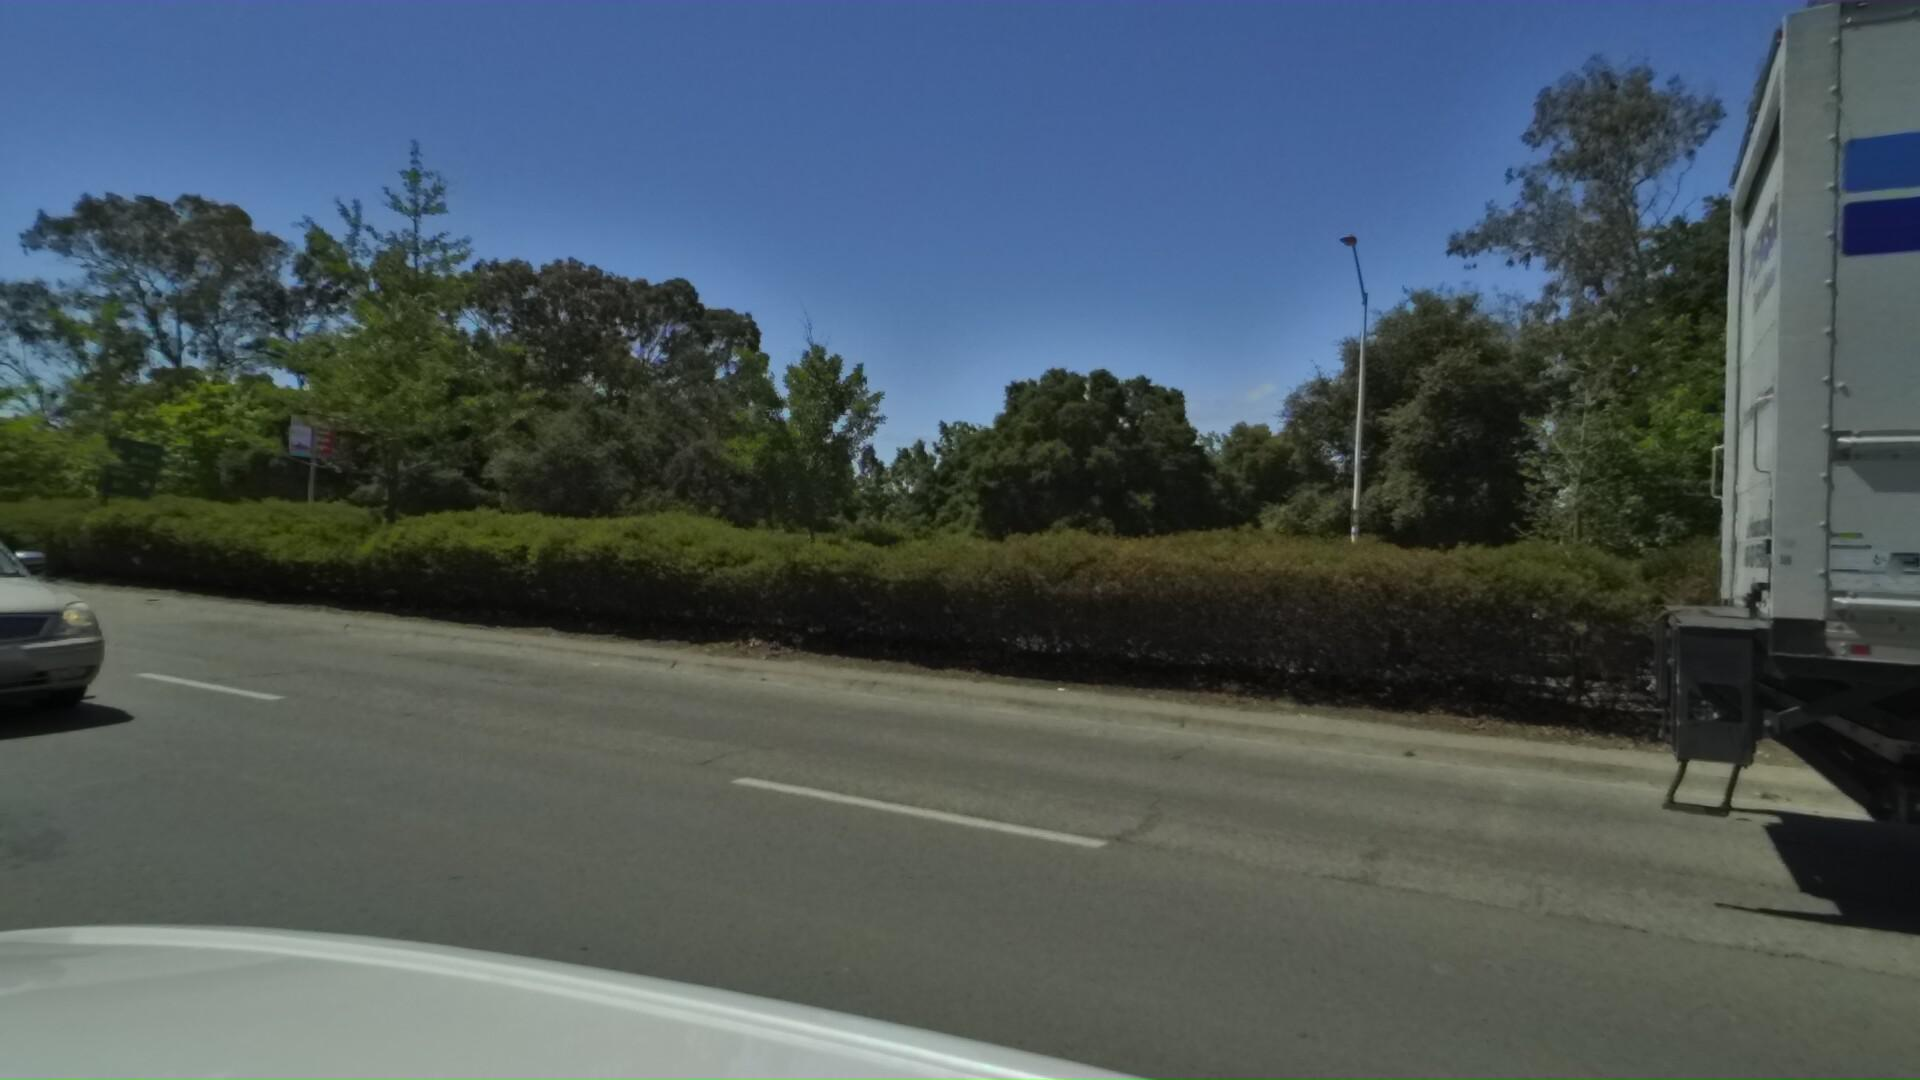car: (0, 476, 146, 764)
